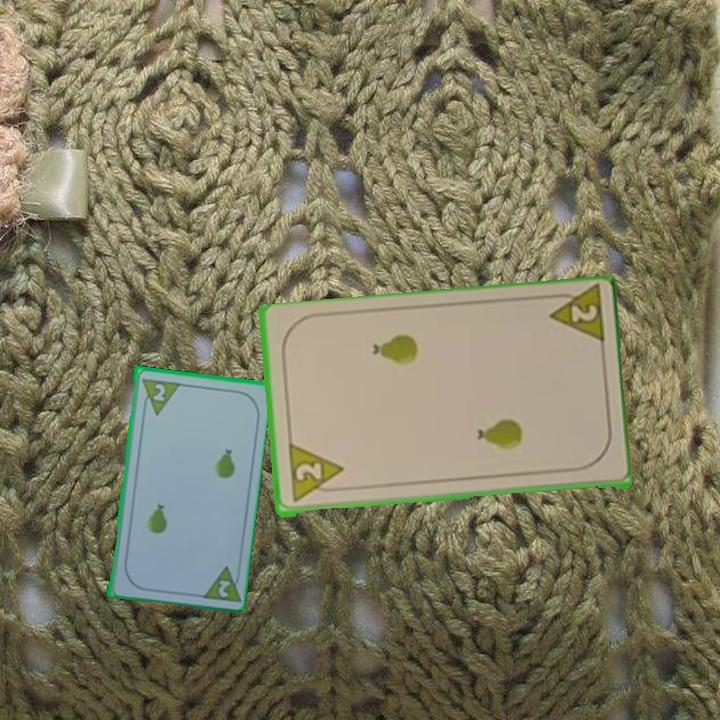2p: (542, 285, 607, 350), (284, 442, 347, 506), (149, 380, 168, 404), (214, 576, 233, 600)
